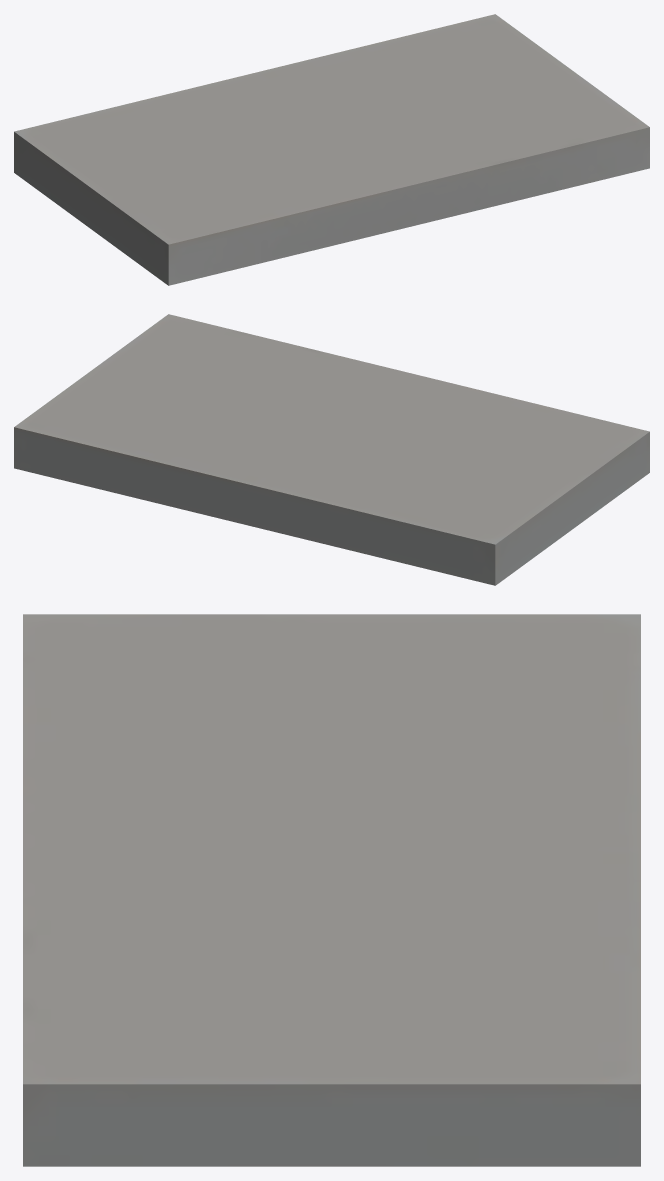
Rendered from Pfb_PaperBox__10.fbx.
The picture shows the model from 3 angles, top to bottom: view 1: azimuth 30°, elevation 25°; view 2: azimuth 150°, elevation 25°; view 3: azimuth 270°, elevation 25°; orthographic projection. The views are drawn at different scales.
Parts seen in each view (by area): view 1: Mat_PaperBox_01_01; view 2: Mat_PaperBox_01_01; view 3: Mat_PaperBox_01_01.
Part boxes in pixels (left/top/right/bottom): Mat_PaperBox_01_01: left=14, top=14, right=649, bottom=285; Mat_PaperBox_01_01: left=14, top=314, right=649, bottom=585; Mat_PaperBox_01_01: left=23, top=614, right=640, bottom=1166.
Size of the model in its own units: 1.34 by 0.1098 by 0.7468.
Materials: 1 (1 with a texture image).
